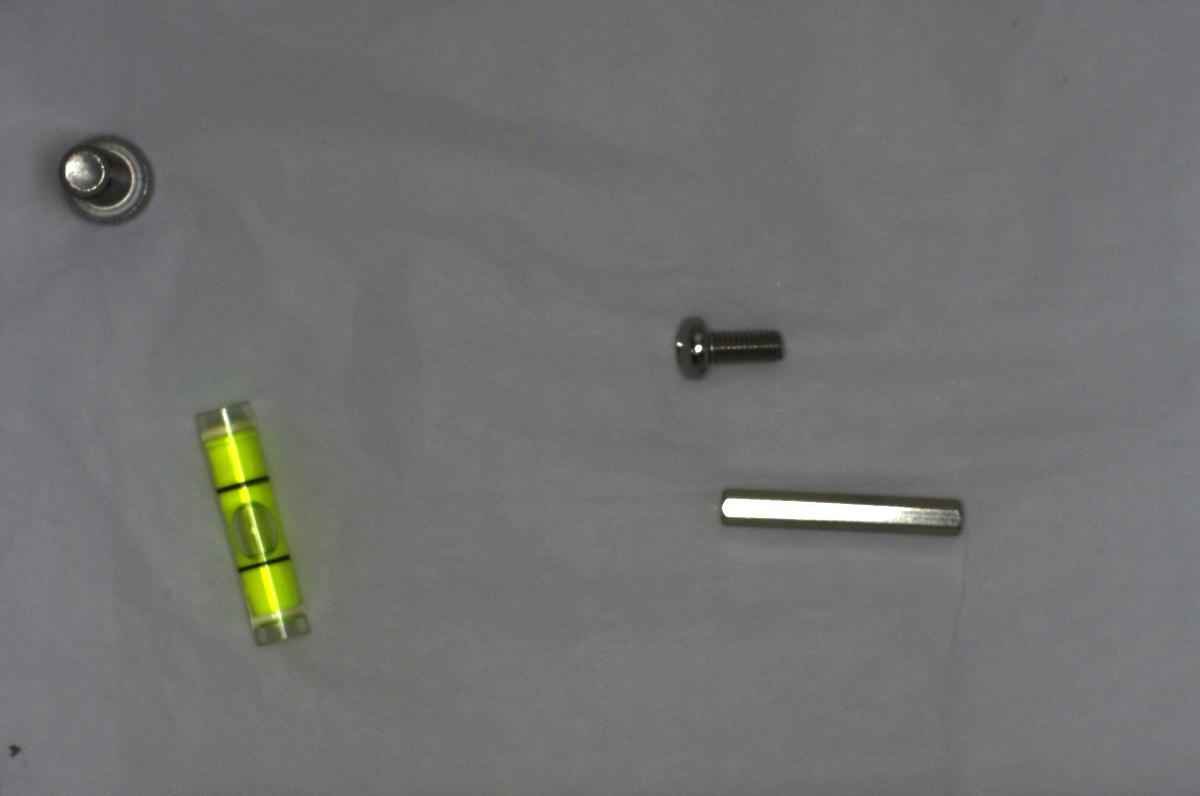Double hexagonal column: (701, 483, 972, 552)
Hexagon screw: (51, 133, 154, 233)
Horizontal bubble: (187, 392, 315, 653)
Round head screw: (659, 306, 790, 382)
